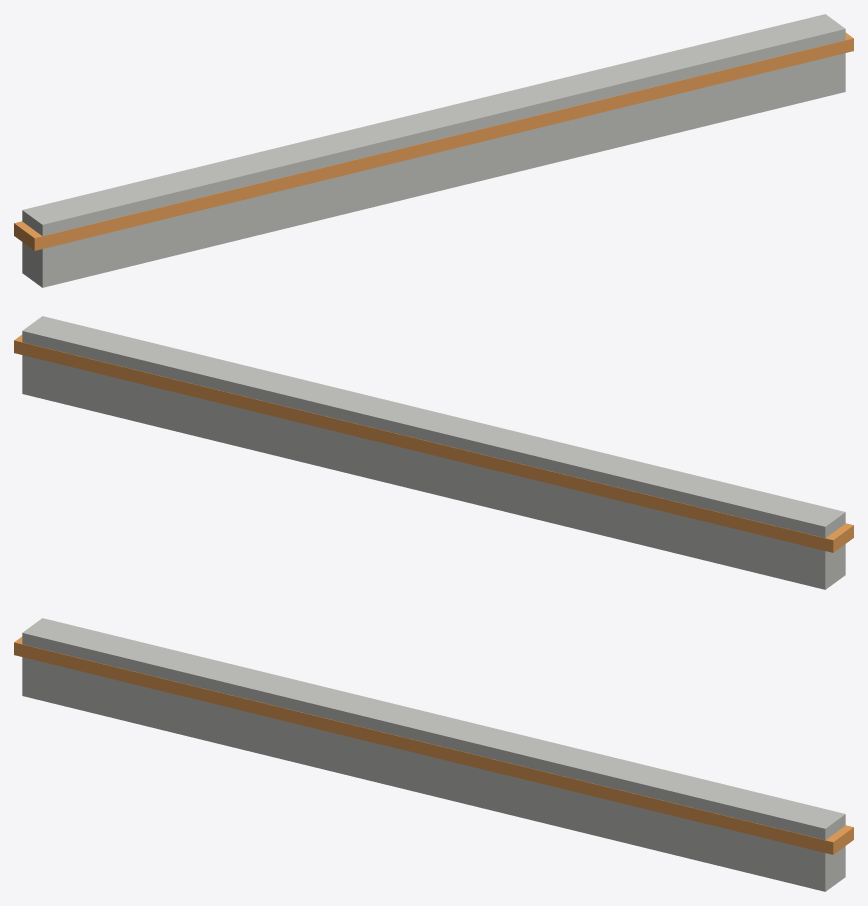
File: barrier segment.glb
3 views of the same model, one above another, from view 1: azimuth 30°, elevation 25°; view 2: azimuth 150°, elevation 25°; view 3: azimuth 330°, elevation 25° (orthographic).
Visible parts, largest first — view 1: barrier_body, barrier_stripe; view 2: barrier_body, barrier_stripe; view 3: barrier_body, barrier_stripe.
Boxes of the visible parts, x1,y1,x2,y2 form: barrier_body: [22, 14, 845, 287]; barrier_stripe: [14, 32, 853, 250]; barrier_body: [22, 316, 845, 589]; barrier_stripe: [14, 334, 853, 552]; barrier_body: [22, 618, 845, 891]; barrier_stripe: [14, 636, 853, 854].
Size of the model in its own units: 8.16 by 0.6 by 0.357.
